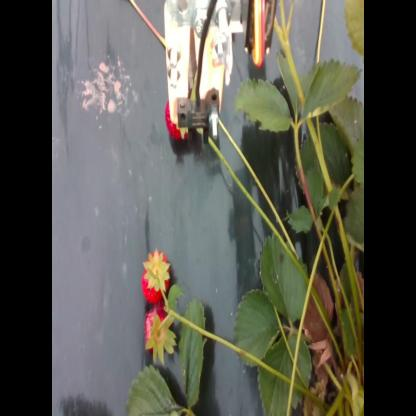ripe: (144, 303, 177, 364), (142, 251, 174, 306), (162, 91, 192, 149)
